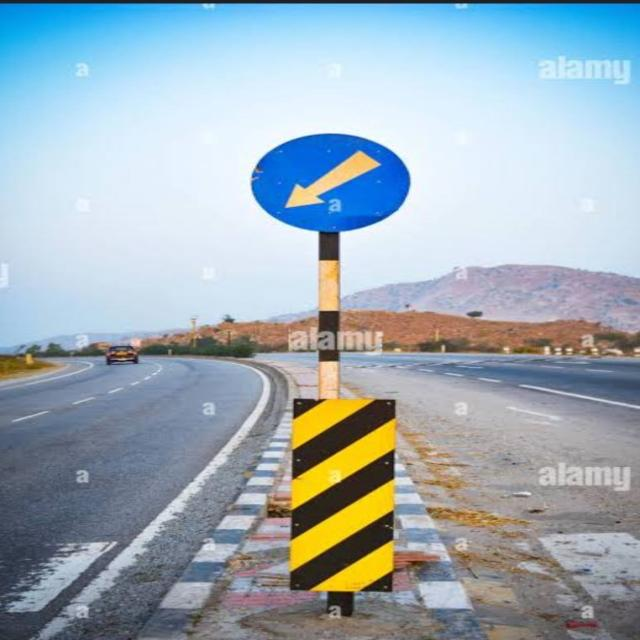compulsory_keep_left: (246, 124, 421, 251)
object_hazzard_to_right: (284, 396, 406, 599)
